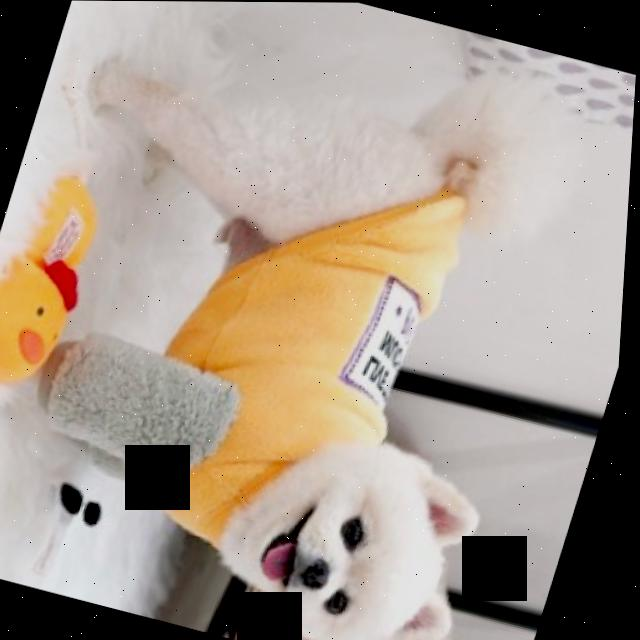cloth: (148, 189, 466, 545)
